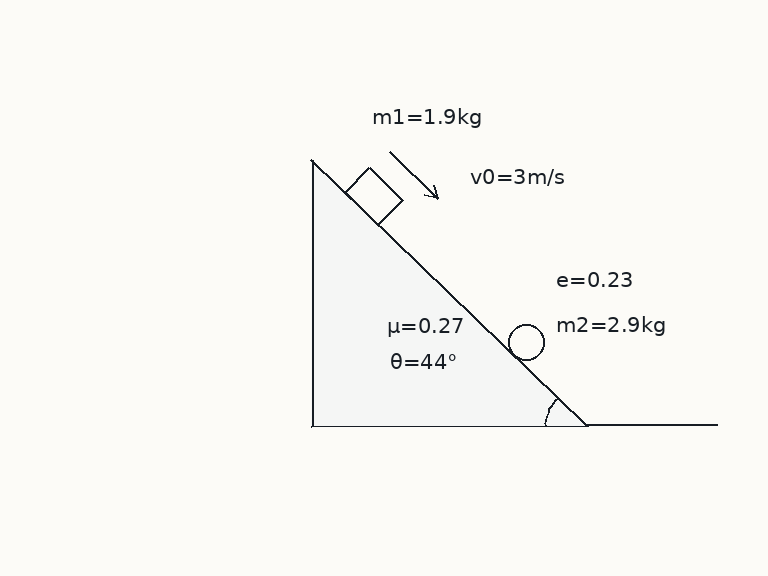ball: (506, 322, 546, 362)
block: (343, 165, 404, 226)
ramp: (309, 158, 588, 427)
